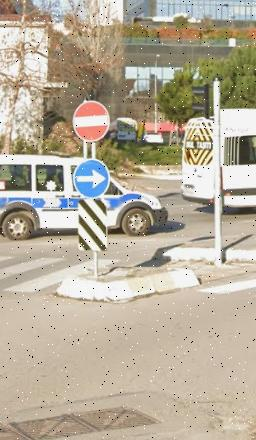turnright: (73, 162, 108, 194)
